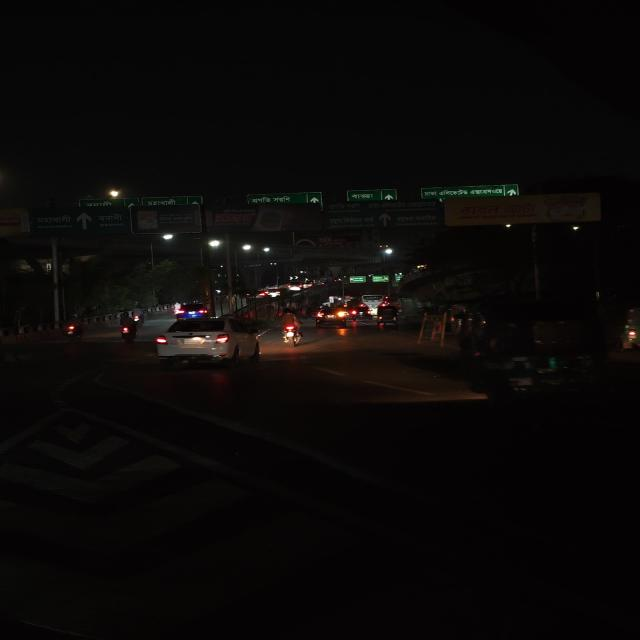car: (154, 316, 266, 368), (313, 304, 350, 328), (350, 303, 373, 318), (262, 288, 282, 298), (287, 282, 302, 292)
motorcycle: (274, 310, 306, 346), (114, 311, 144, 344), (60, 315, 89, 341)
rickshaw: (374, 305, 403, 330)
